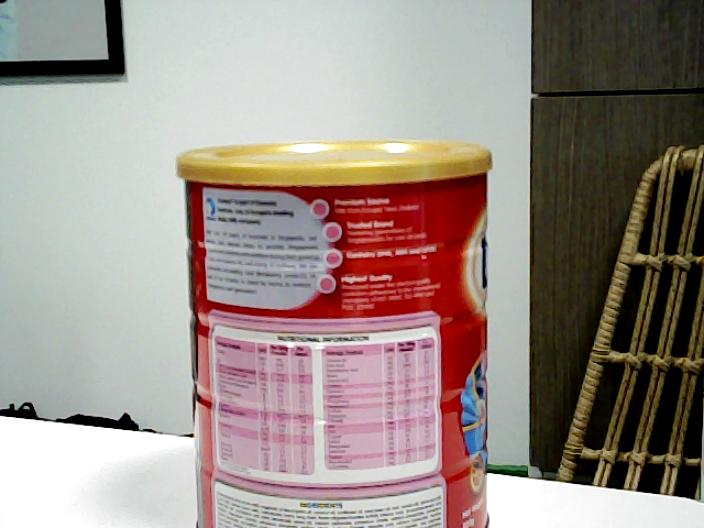Babymilk-powder-_800-899g_NonHalal_NonHealthy: (174, 137, 496, 528)
